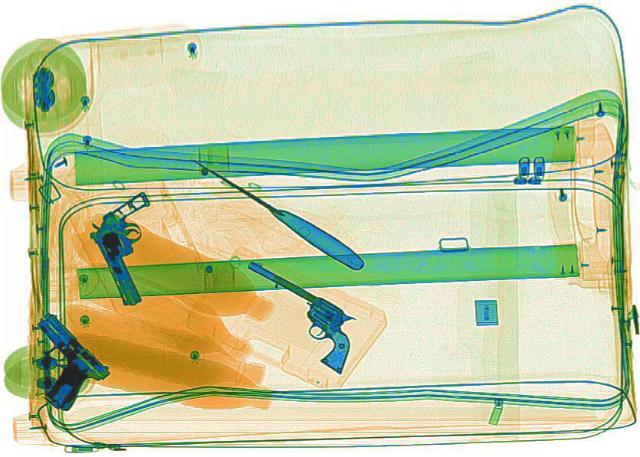Gun: (202, 260, 390, 373), (76, 190, 190, 305), (0, 317, 121, 403)
Knife: (185, 152, 372, 271)
